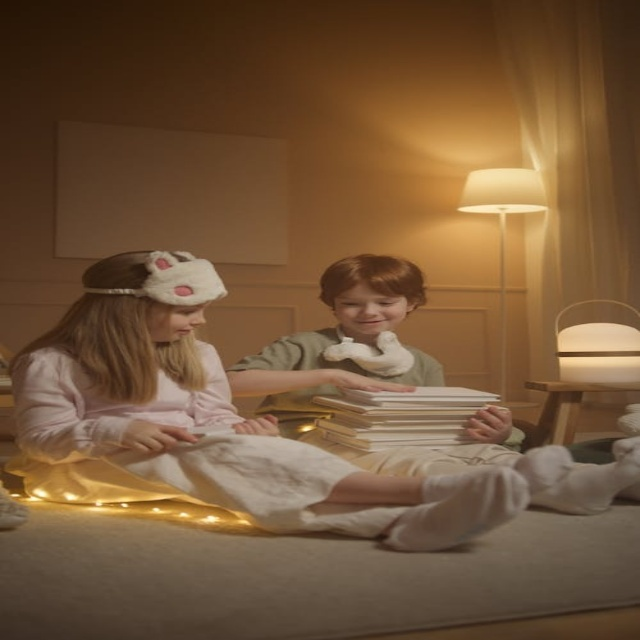Sin_gafas: (335, 293, 399, 312), (172, 302, 214, 315)
Sin_guantes: (120, 417, 202, 459), (332, 366, 419, 395), (461, 406, 514, 444), (230, 414, 283, 436)
Sin_mascara: (349, 315, 393, 331), (159, 325, 202, 341)
